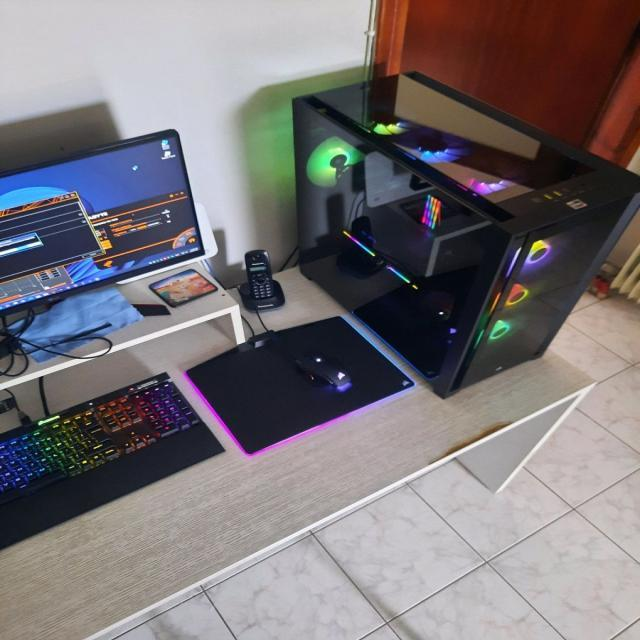Computer-Keyboard: (0, 372, 206, 502)
Computer-Mouse: (292, 339, 364, 407)
Desktop-PC: (280, 68, 640, 410)
Flat-Panel-Monitor: (3, 133, 210, 303)
